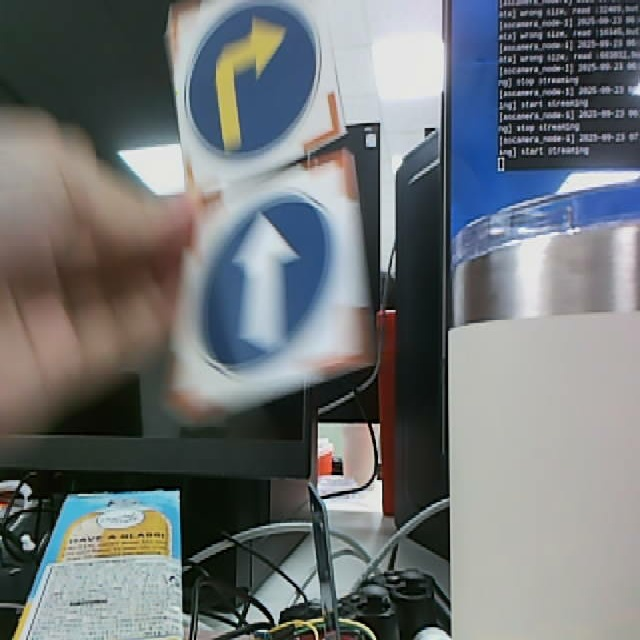right: (165, 1, 345, 193)
straight: (175, 155, 376, 416)
